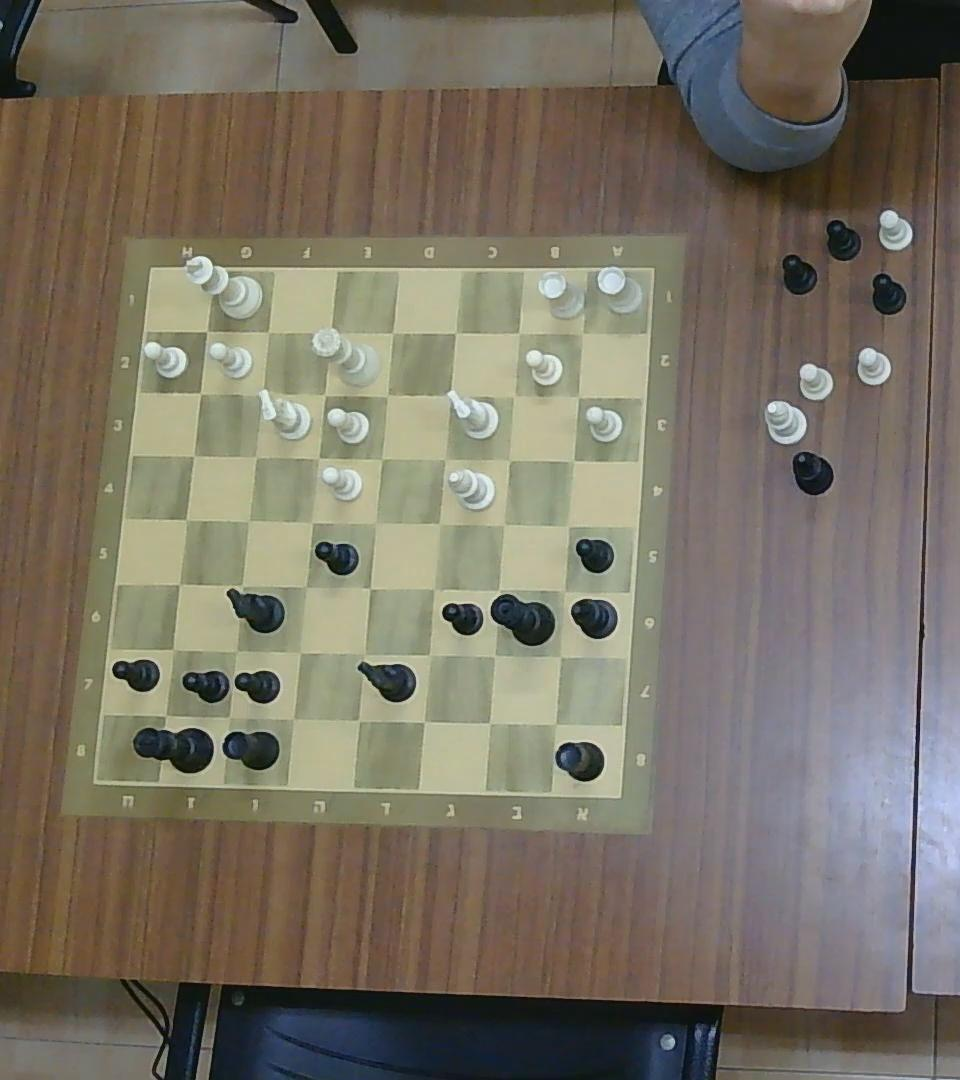xcorner: (215, 703, 242, 730), (280, 705, 305, 732), (153, 701, 179, 726), (477, 709, 502, 734), (412, 709, 436, 734), (347, 707, 370, 733), (541, 712, 567, 735), (549, 644, 573, 668), (161, 637, 185, 661), (288, 640, 311, 665), (482, 642, 505, 667), (491, 512, 514, 536), (174, 507, 197, 531), (167, 572, 191, 595), (230, 573, 253, 597), (318, 320, 341, 344), (427, 511, 450, 534), (352, 641, 375, 664), (224, 639, 246, 663), (196, 318, 218, 342), (363, 511, 385, 534), (419, 643, 441, 666), (438, 383, 460, 406), (487, 577, 510, 599), (245, 446, 267, 468), (422, 577, 444, 599), (237, 508, 258, 531), (563, 449, 584, 471), (251, 382, 272, 404), (567, 384, 588, 405), (258, 320, 279, 341), (182, 445, 204, 465), (558, 513, 578, 535), (301, 510, 321, 532), (360, 576, 380, 598), (295, 576, 315, 598), (445, 321, 465, 343), (383, 321, 403, 343), (370, 448, 390, 469), (376, 384, 396, 405), (189, 382, 209, 403), (499, 449, 518, 471), (435, 448, 454, 469), (315, 384, 334, 405), (308, 447, 327, 467), (504, 386, 523, 406), (554, 580, 573, 600), (510, 322, 529, 342), (573, 322, 592, 342)
